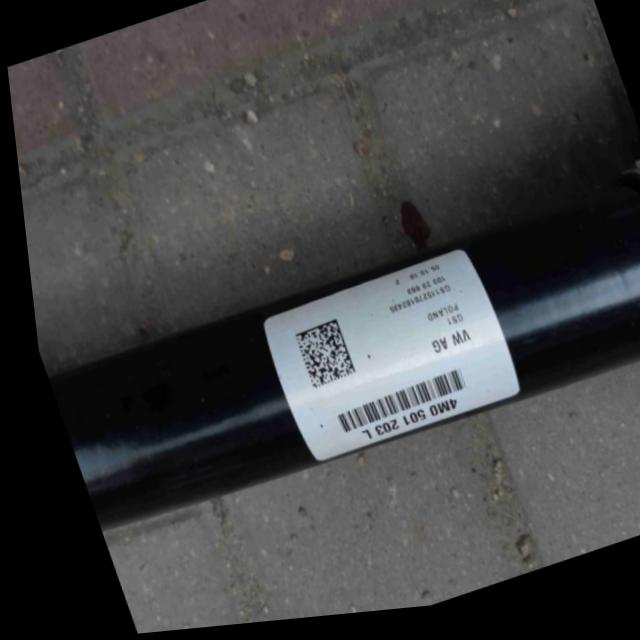datamatrix: (284, 323, 348, 396)
